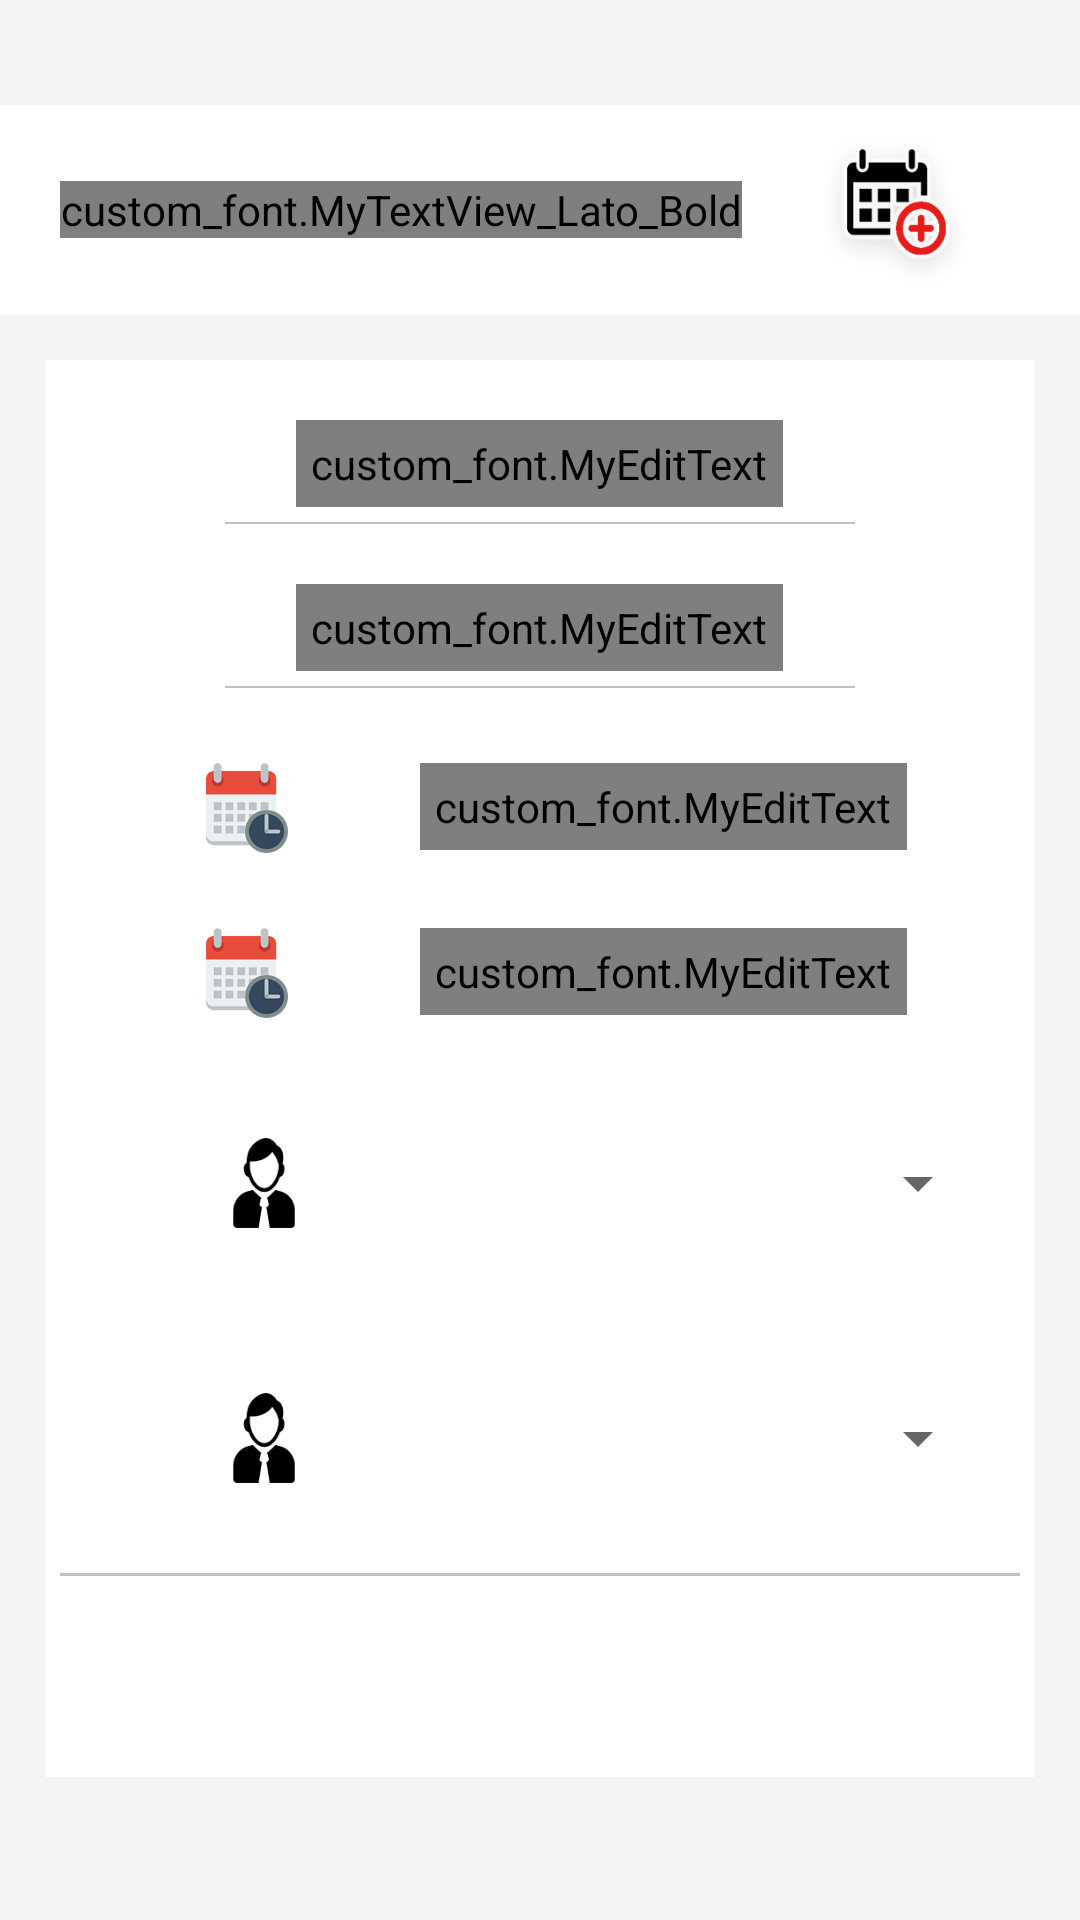

Point at icon controls on the screen. Image size 1080w x 1920h, points as (x=x, y=y).
cal: (x=247, y=808), (x=247, y=973)
people: (x=264, y=1183), (x=264, y=1438)
